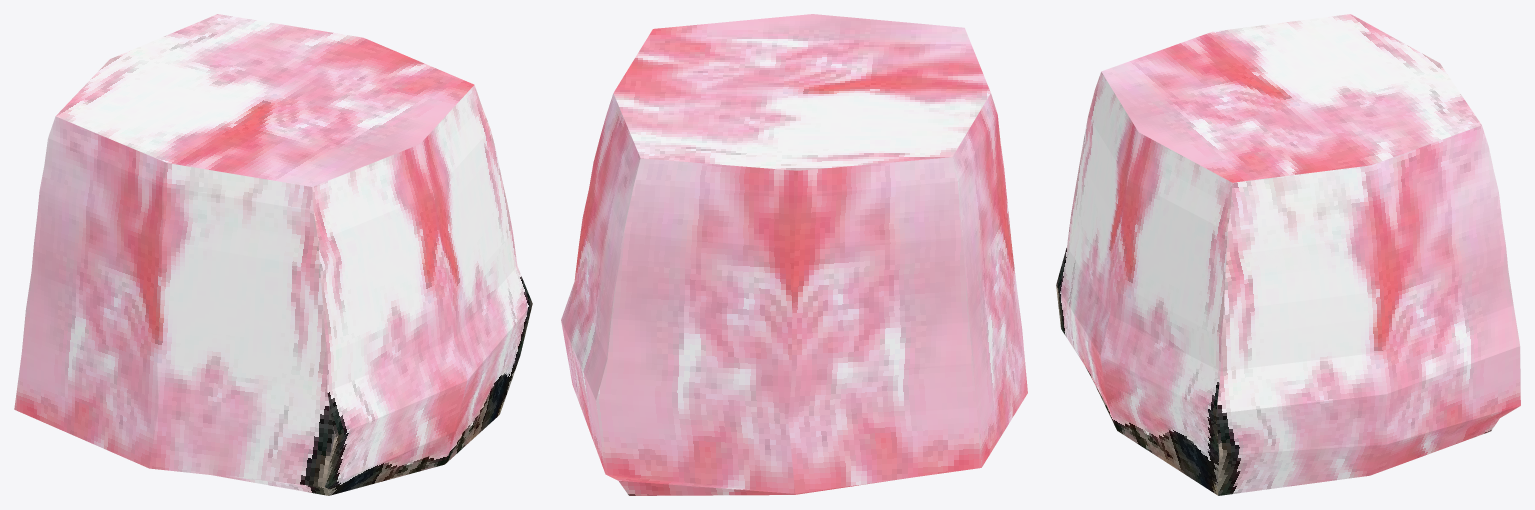
3 renders of one model, left to right at view 1: azimuth 30°, elevation 25°; view 2: azimuth 150°, elevation 25°; view 3: azimuth 270°, elevation 25°, orthographic. The views are drawn at different scales.
Visible parts, largest first — view 1: SPLICE_2.004; view 2: SPLICE_2.004; view 3: SPLICE_2.004.
Part boxes in pixels (bbox=[...]): SPLICE_2.004: bbox=[14, 14, 532, 495]; SPLICE_2.004: bbox=[561, 14, 1027, 495]; SPLICE_2.004: bbox=[1056, 14, 1520, 495].
Size of the model in its own units: 1.55 by 1.14 by 1.53.
1 material, 1 textured.
